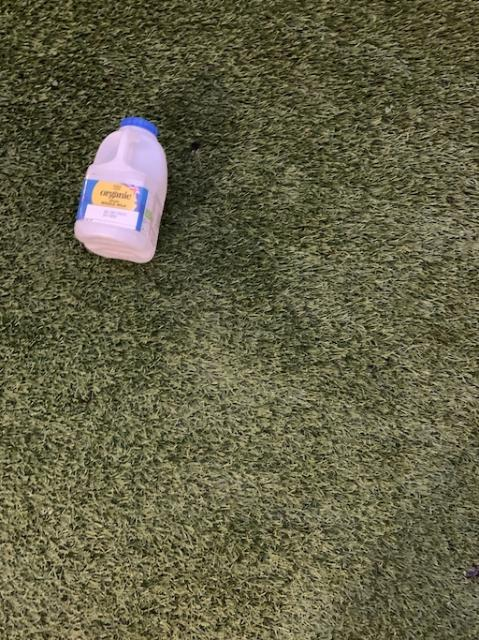plastic: (73, 115, 166, 260)
